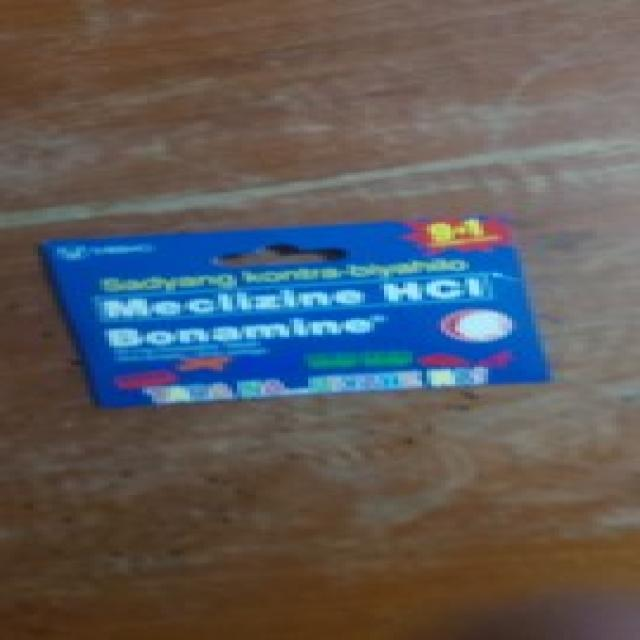Cacat: (36, 212, 560, 403)
